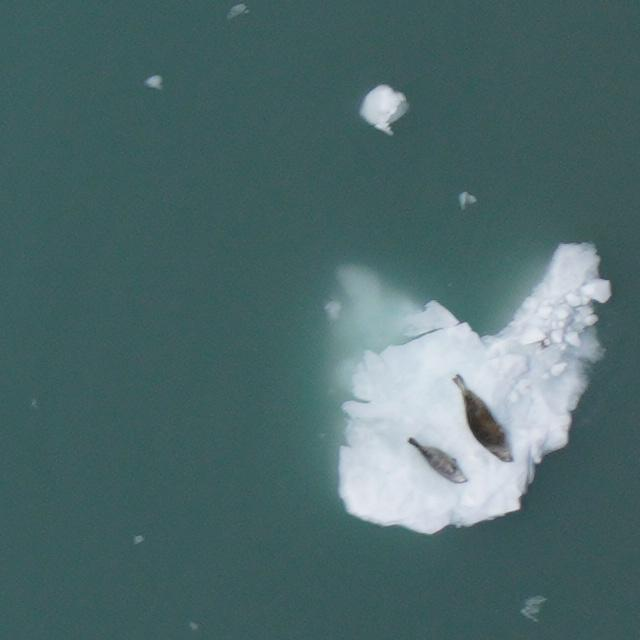seal: (443, 369, 519, 472), (405, 429, 477, 494)
